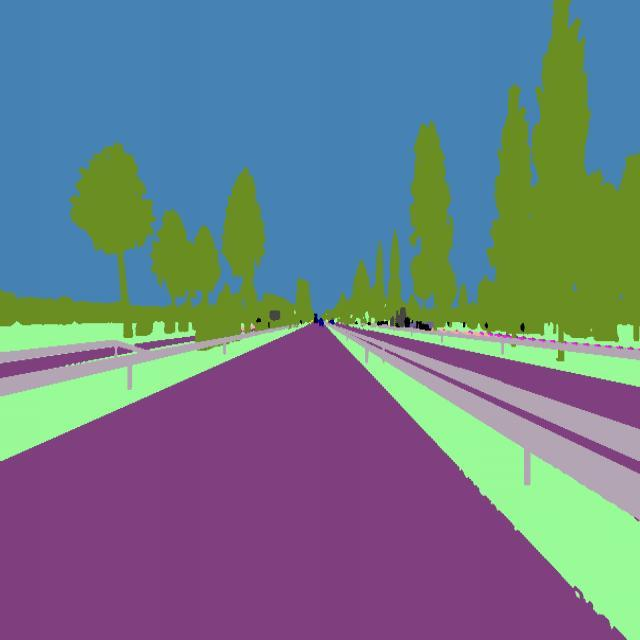safe: (317, 318, 327, 330), (328, 317, 336, 327)
